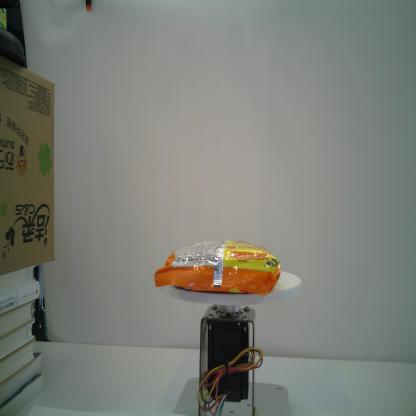Instant Noodles: (155, 239, 281, 295)
